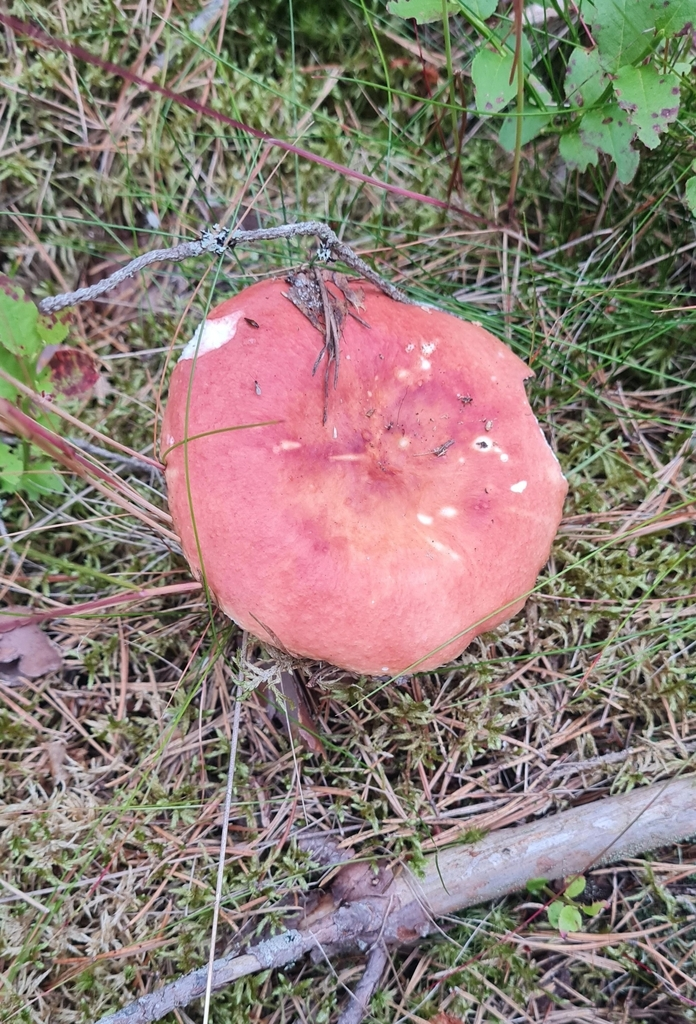cap: (161, 280, 566, 673)
